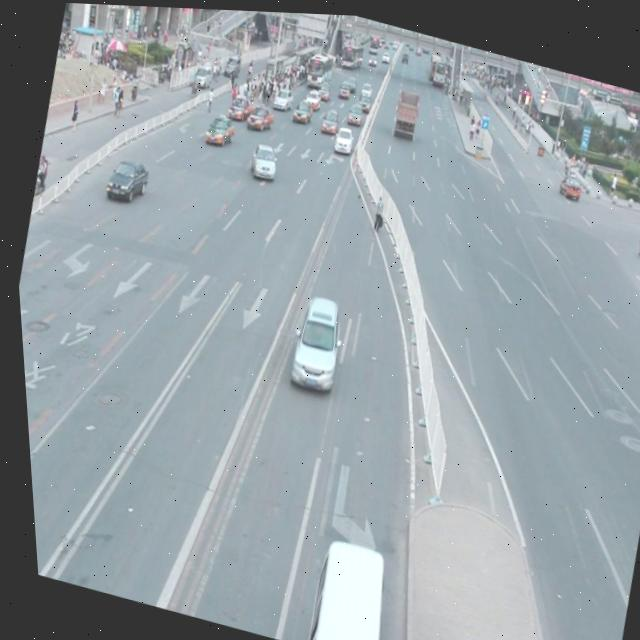car: (276, 283, 346, 392), (100, 152, 151, 206), (244, 138, 279, 179)
truck: (288, 530, 393, 640)
